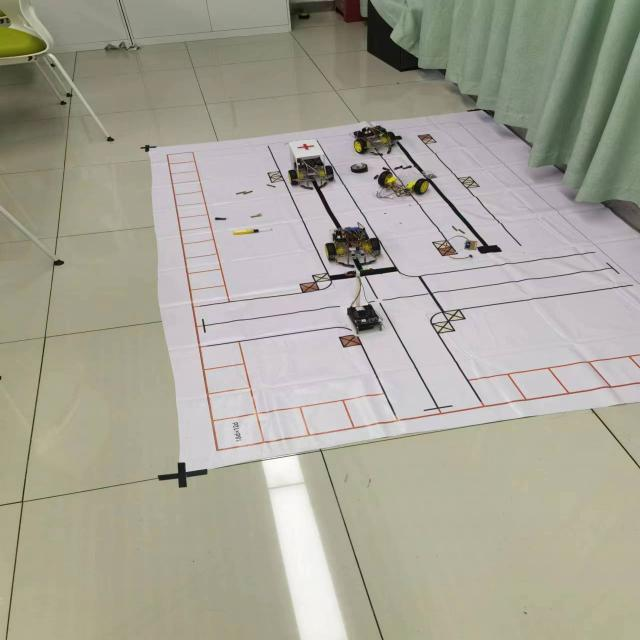RedCross: (295, 142, 316, 152)
